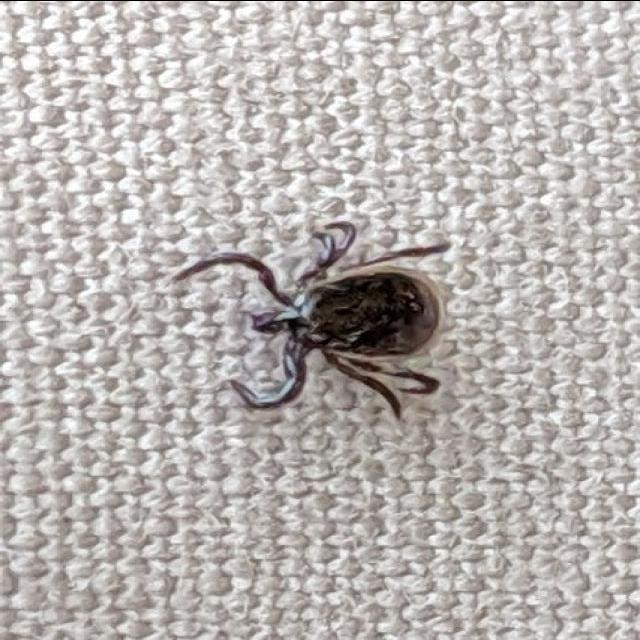Ixodes Ricinus-M: (174, 220, 445, 419)
